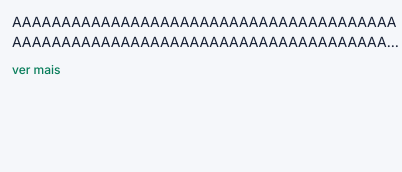
Test case: TextoRecolhido — o texto longo dobra, não corta › texto longo vem recolhido com o inteiro no title, e "ver mais" abre
Click the button "ver mais" at (36, 70), box [12,54,60,86]
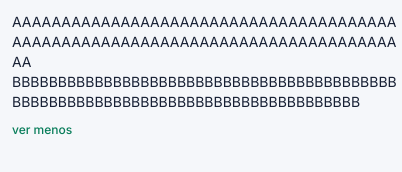
Now the button "ver menos" is shown, box [12,114,72,146]
